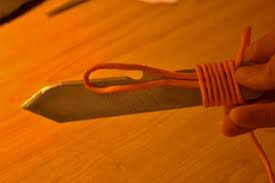knife: (5, 33, 275, 144)
